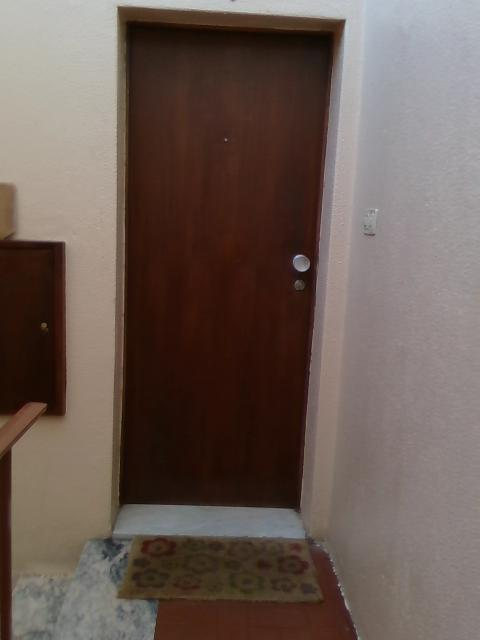door: (125, 21, 332, 506)
